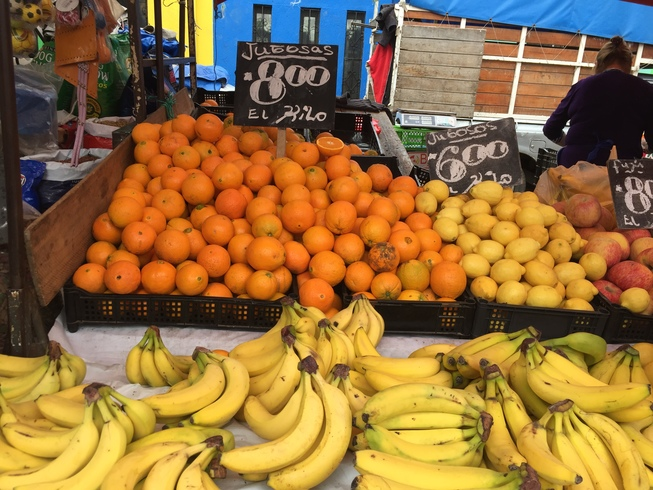precio: (427, 104, 534, 204), (233, 38, 342, 135), (600, 155, 653, 240)
